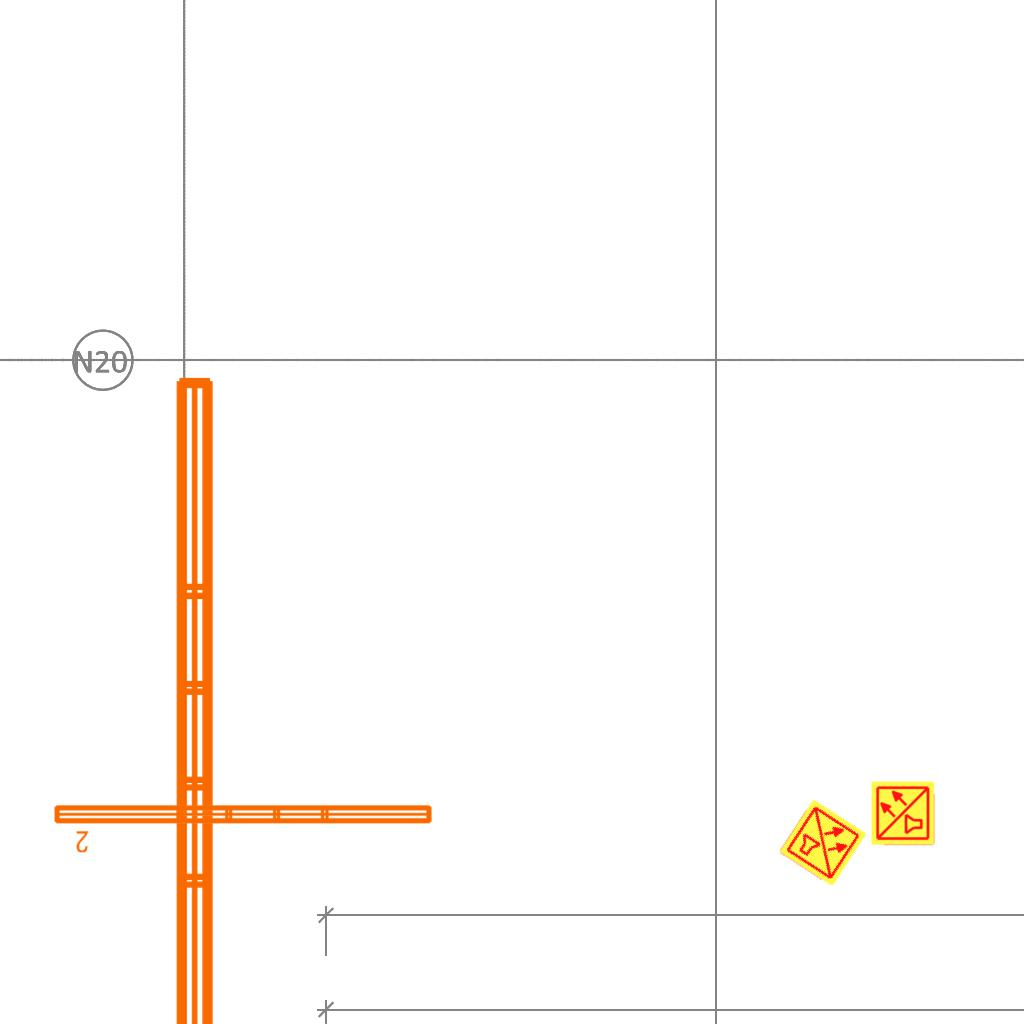Ambulanz_Pendelleuchte_LED: (164, 367, 276, 1024), (50, 799, 437, 855)
OKW_Multisensormelder_(Kombination_optischer_Rauch-Kahlenmonoxid_Waerme-Melder): (777, 797, 869, 889), (870, 780, 936, 846)
